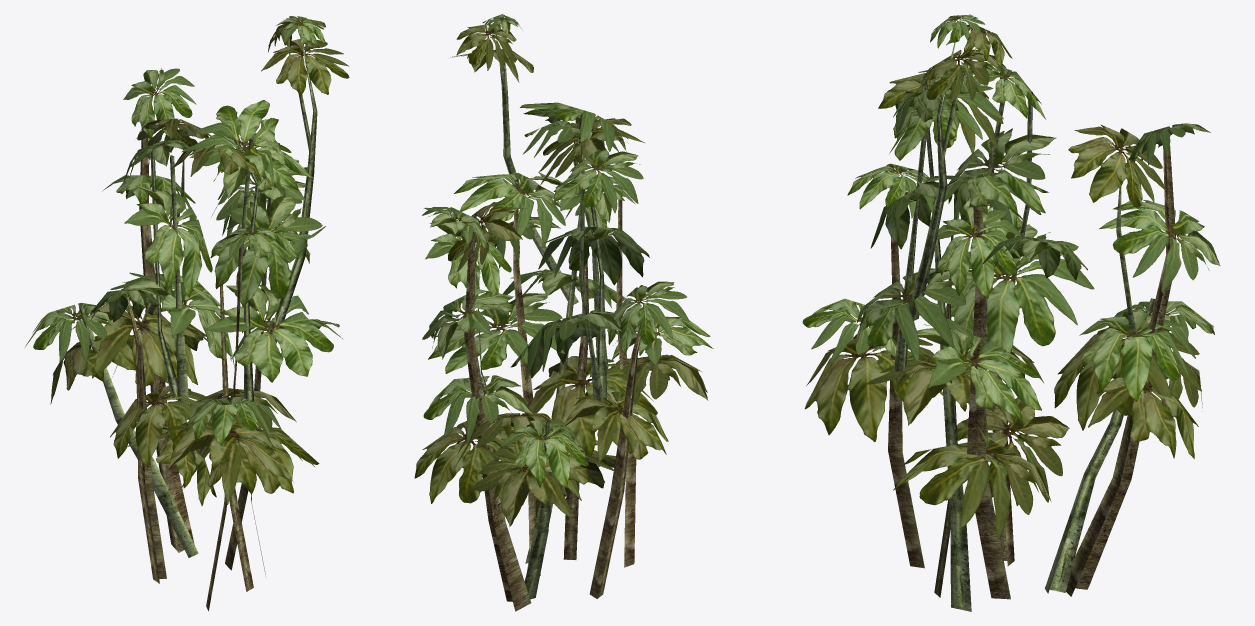
File: S_Tree_Green059_1.FBX
3 views of the same model, side by side, from view 1: azimuth 30°, elevation 25°; view 2: azimuth 150°, elevation 25°; view 3: azimuth 270°, elevation 25° (orthographic). The views are drawn at different scales.
Visible parts, largest first — view 1: S_Tree_Green059_1; view 2: S_Tree_Green059_1; view 3: S_Tree_Green059_1.
Boxes of the visible parts, x1=… form: S_Tree_Green059_1: x1=25, y1=16, x2=349, y2=611; S_Tree_Green059_1: x1=414, y1=14, x2=713, y2=611; S_Tree_Green059_1: x1=802, y1=14, x2=1220, y2=611.
Size of the model in its own units: 217 by 273 by 395.
